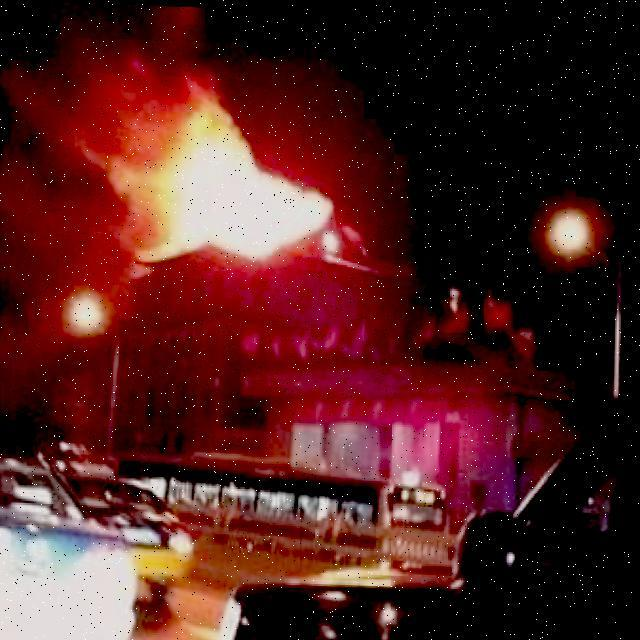Fire: (134, 98, 358, 274)
